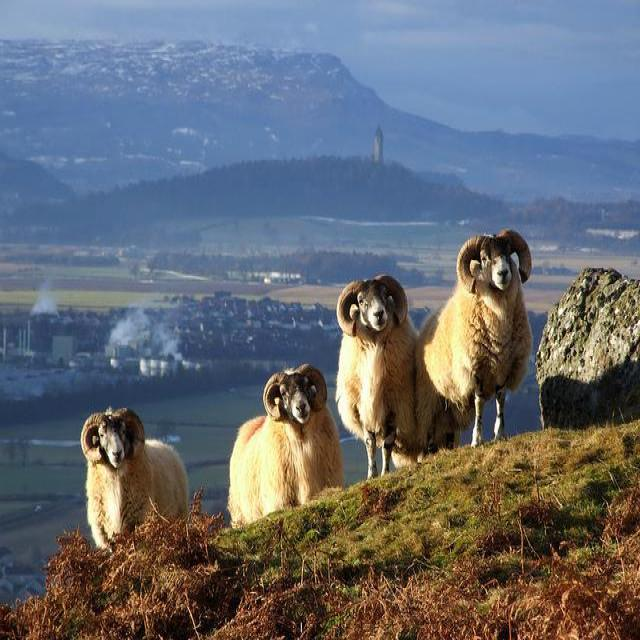Sheep: (335, 275, 471, 481), (418, 229, 539, 451), (227, 366, 344, 530), (79, 408, 190, 547)
